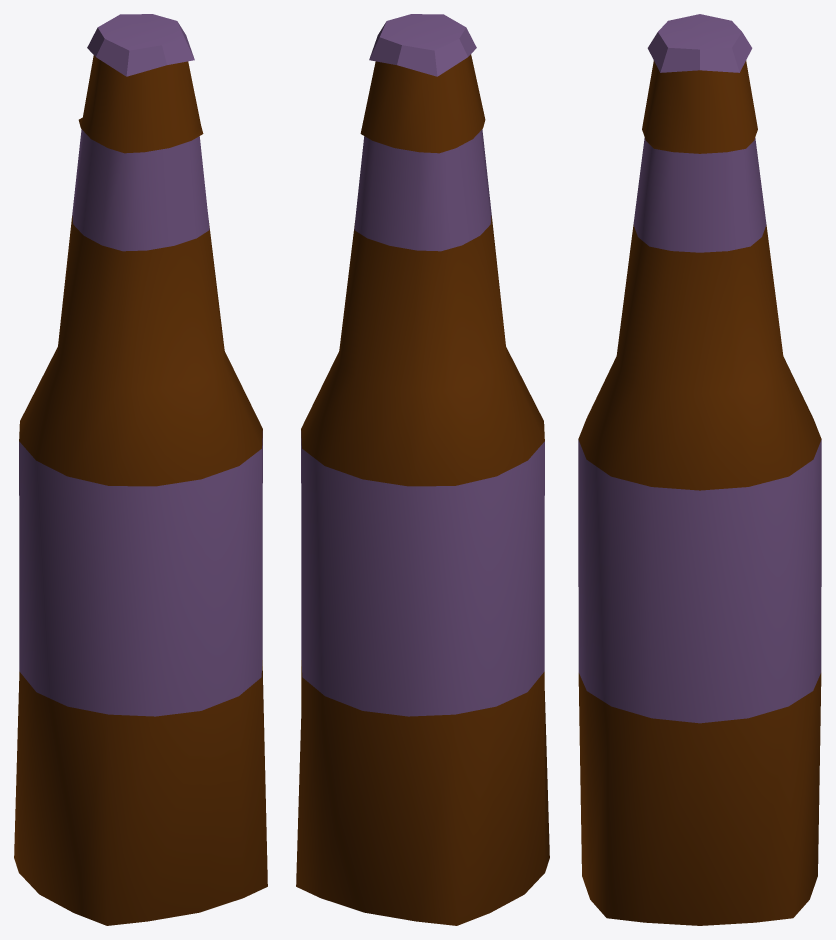
Rendered from beer_v02.fbx.
3 views of the same model, side by side, from view 1: azimuth 30°, elevation 25°; view 2: azimuth 150°, elevation 25°; view 3: azimuth 270°, elevation 25° (orthographic).
Visible parts, largest first — view 1: pCube63; view 2: pCube63; view 3: pCube63.
Boxes of the visible parts, x1=… form: pCube63: x1=14, y1=14, x2=267, y2=925; pCube63: x1=296, y1=14, x2=549, y2=925; pCube63: x1=578, y1=14, x2=821, y2=925.
Bounding box in the file's own units: 7.45 × 28.6 × 7.44.
